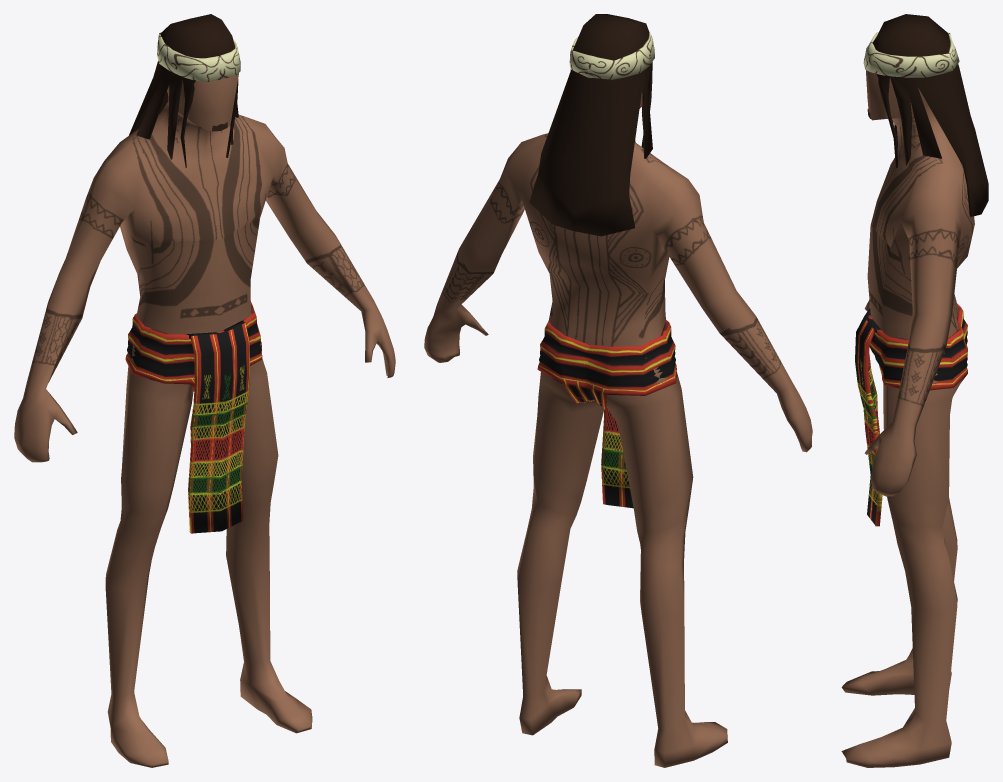
File: dumakulem.fbx
3 views of the same model, side by side, from view 1: azimuth 30°, elevation 25°; view 2: azimuth 150°, elevation 25°; view 3: azimuth 270°, elevation 25° (orthographic). The views are drawn at different scales.
Parts seen in each view (by area): view 1: Dumakulem, Dumakulem Bahag.002, Dumakulem hair, Dumakulem Bahag, Dumakulem Bandana; view 2: Dumakulem, Dumakulem hair, Dumakulem Bahag, Dumakulem Bahag.002, Dumakulem Bandana; view 3: Dumakulem, Dumakulem hair, Dumakulem Bahag, Dumakulem Bahag.002, Dumakulem Bandana.
Boxes of the visible parts, box(x1,y1,x2,y2) form: Dumakulem: box(14, 73, 395, 767); Dumakulem Bahag.002: box(187, 320, 249, 533); Dumakulem hair: box(129, 14, 238, 167); Dumakulem Bahag: box(125, 302, 262, 391); Dumakulem Bandana: box(157, 32, 240, 81); Dumakulem: box(424, 92, 812, 767); Dumakulem hair: box(529, 14, 652, 236); Dumakulem Bahag: box(537, 320, 676, 410); Dumakulem Bahag.002: box(601, 409, 633, 508); Dumakulem Bandana: box(569, 31, 654, 79); Dumakulem: box(841, 70, 974, 767); Dumakulem hair: box(872, 14, 988, 216); Dumakulem Bahag: box(868, 303, 967, 390); Dumakulem Bahag.002: box(855, 308, 882, 526); Dumakulem Bandana: box(863, 32, 959, 77).
Size of the model in its own units: 196 by 351 by 66.74.
6 materials, 6 textured.
